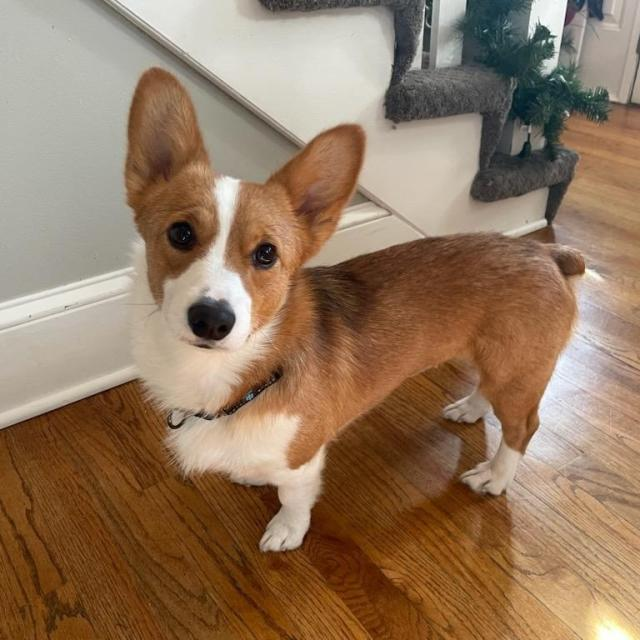corgi_dog: (118, 63, 371, 367)
